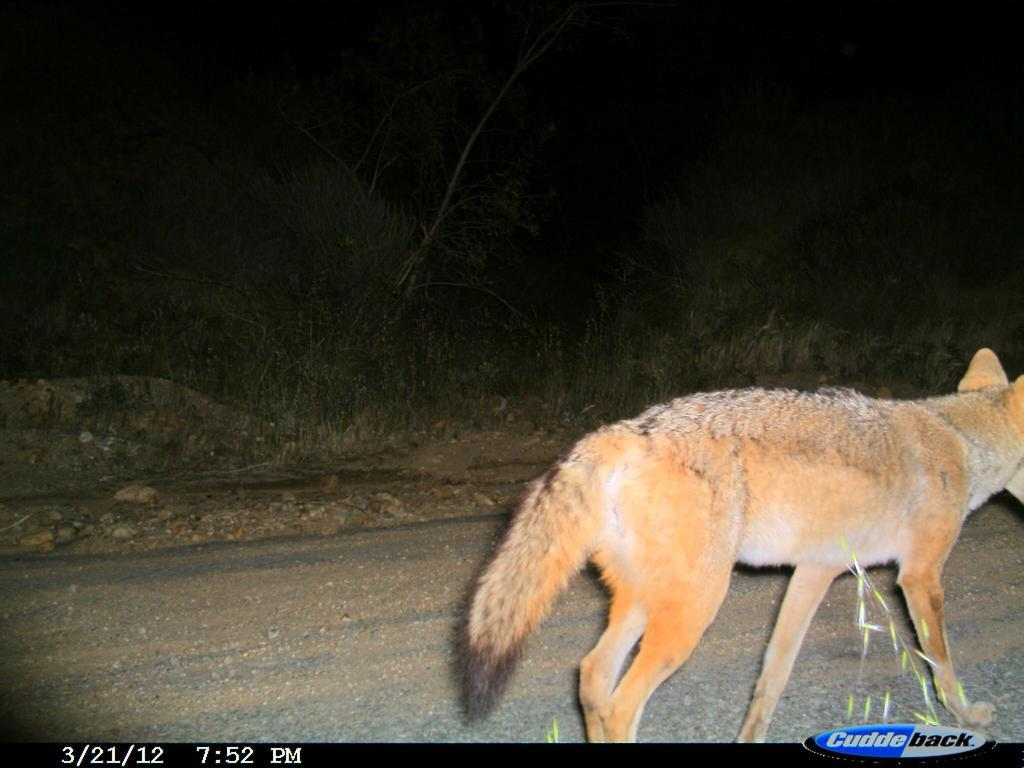coyote: (451, 338, 1022, 740)
